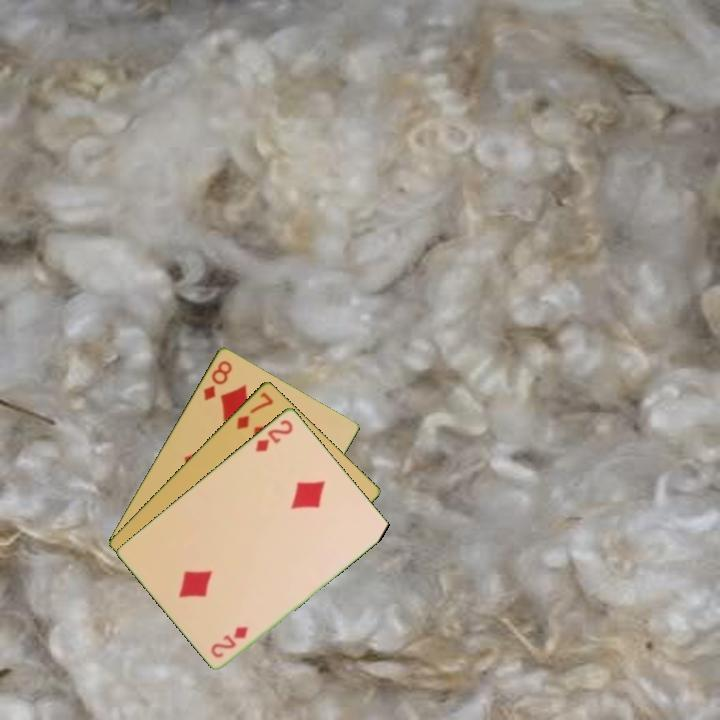2d: (251, 416, 296, 455), (207, 622, 251, 660)
7d: (233, 388, 276, 432)
8d: (200, 356, 235, 403)
